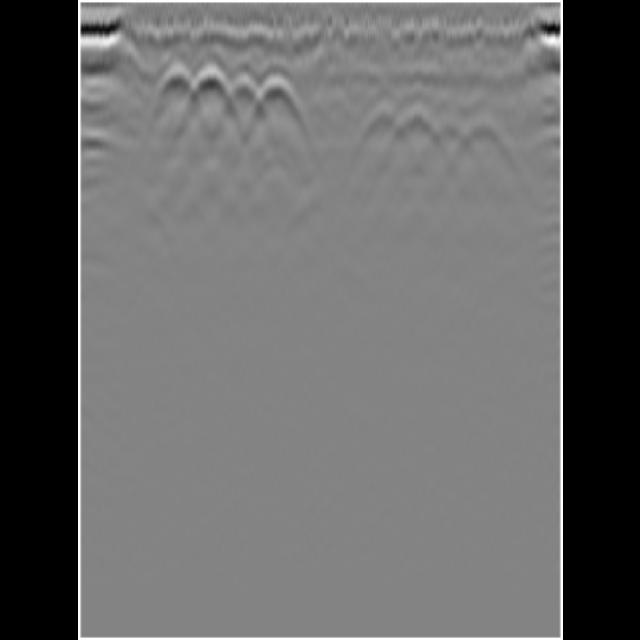hyperbola: (452, 114, 512, 164), (390, 102, 440, 154), (184, 60, 232, 110), (430, 112, 472, 158), (254, 72, 296, 118), (153, 58, 199, 98), (360, 96, 410, 132), (225, 68, 263, 105)
